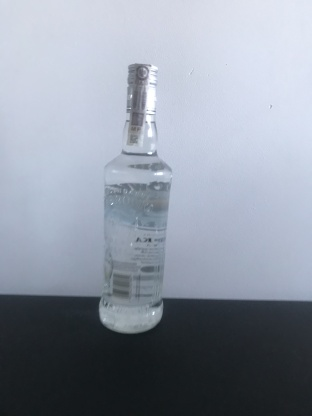nakretka: (124, 59, 160, 117)
